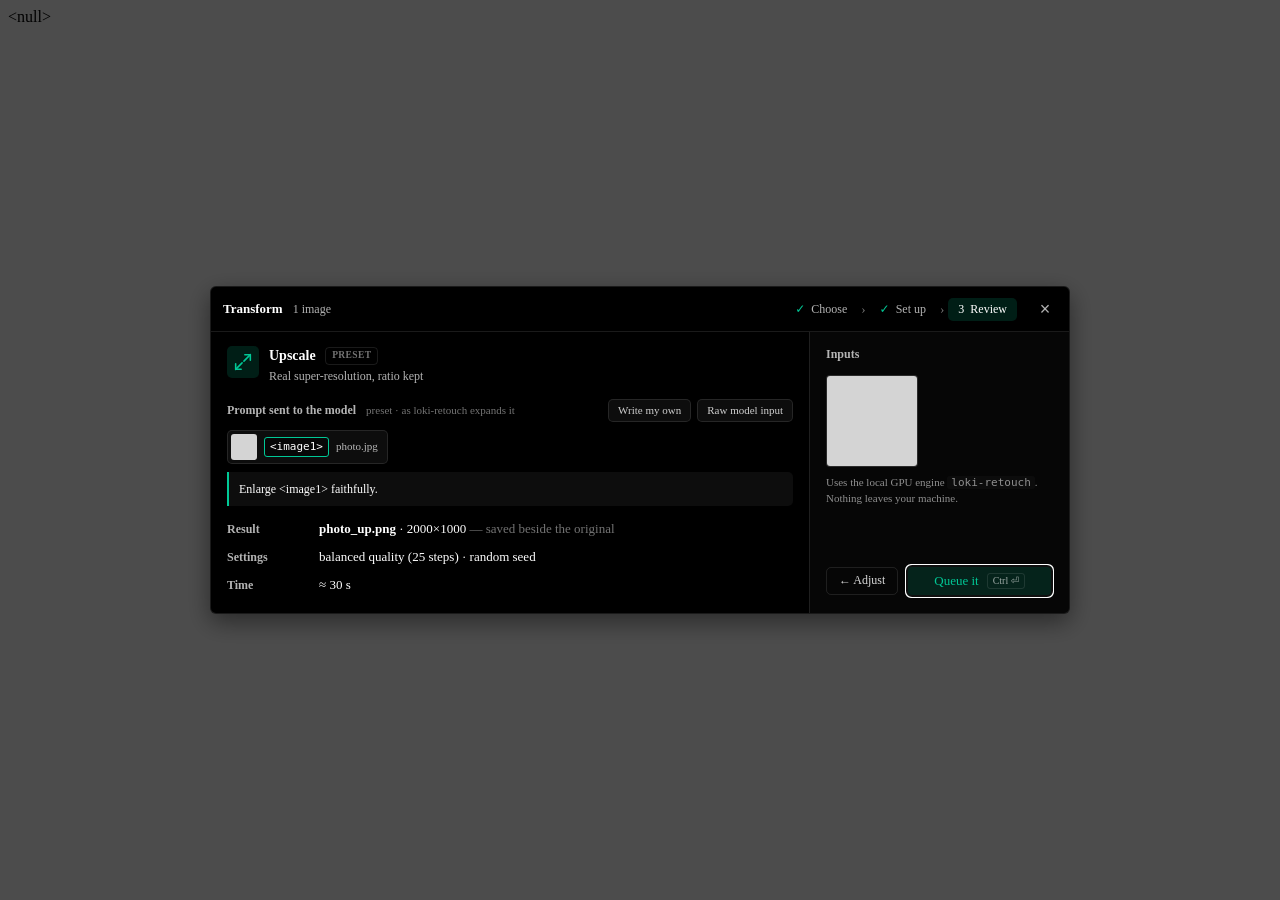
Test: TransformFlowView: references and the full prompt › review: "Write my own" starts from the expanded prompt, tokens insert into it, reset discards it
The image size is (1280, 900).
Click the button "Write my own" at {"x": 650, "y": 410}, box [608,399,691,422]
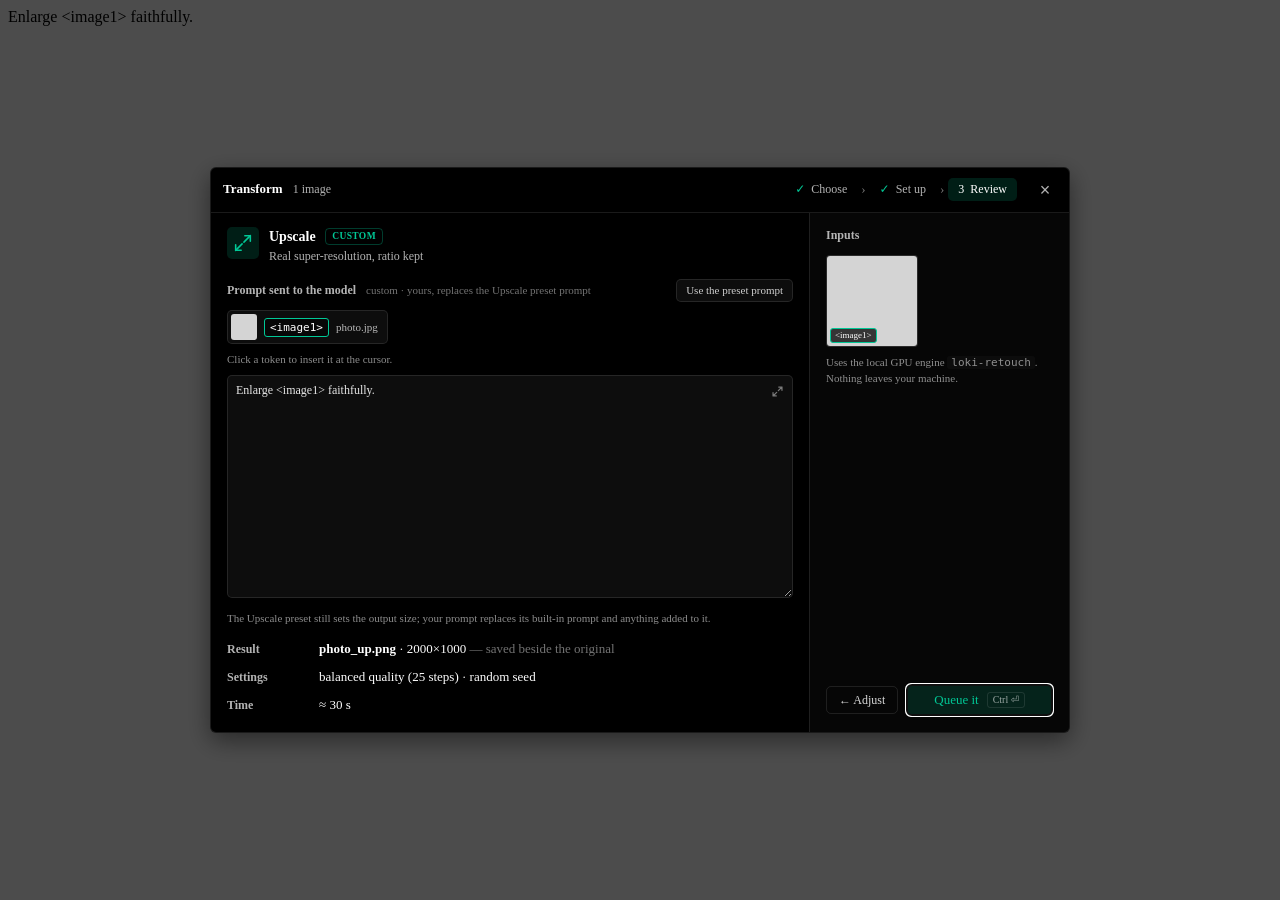
Check: the text box named "Full prompt" holds "Enlarge <image1> faithfully."
Replace the text in the text box named "Full prompt" with "Sharpen" at {"x": 510, "y": 487}, box [227,375,793,598]
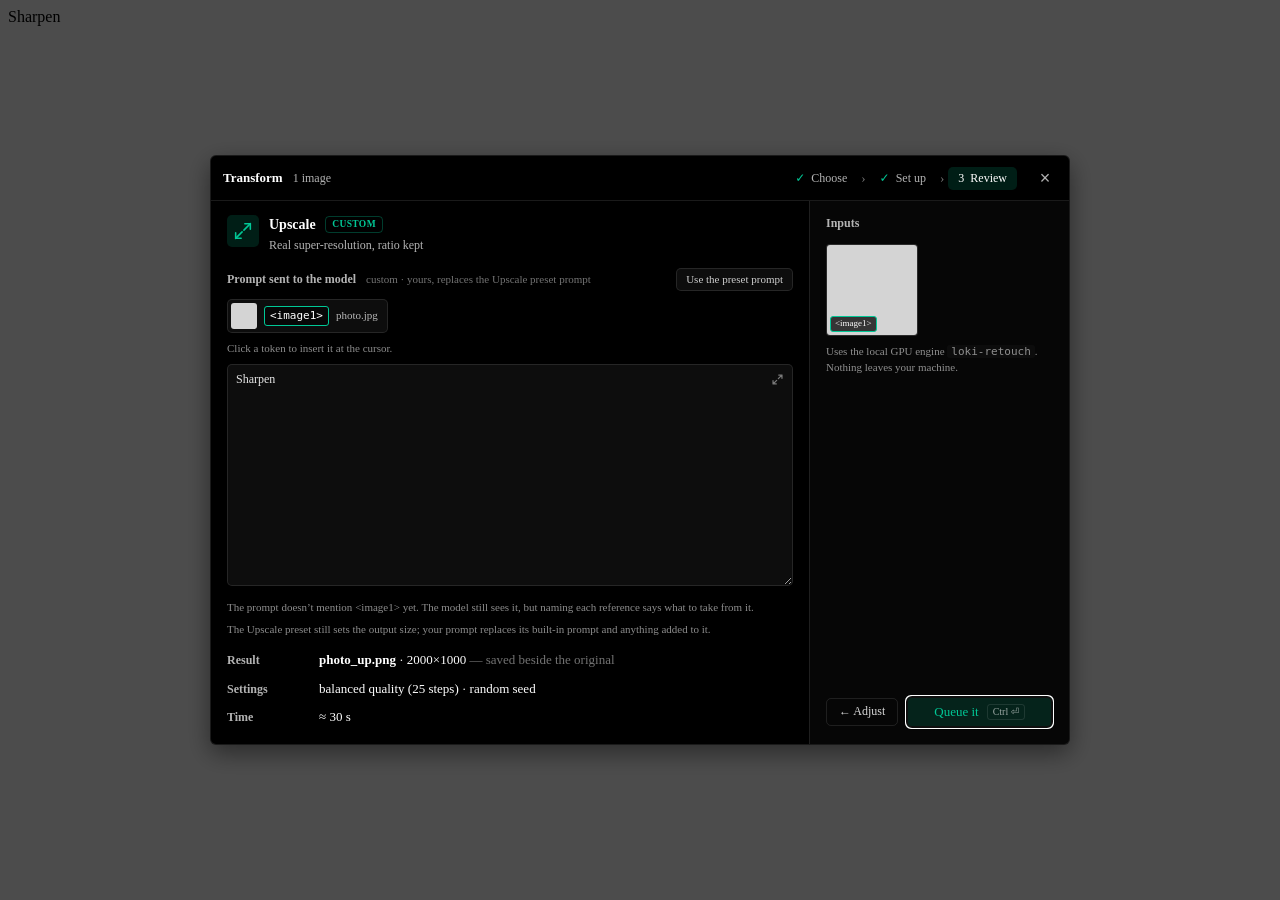
Click the button titled "Insert <image1> (photo.jpg) into the prompt" at {"x": 307, "y": 316}, box [228,300,387,332]
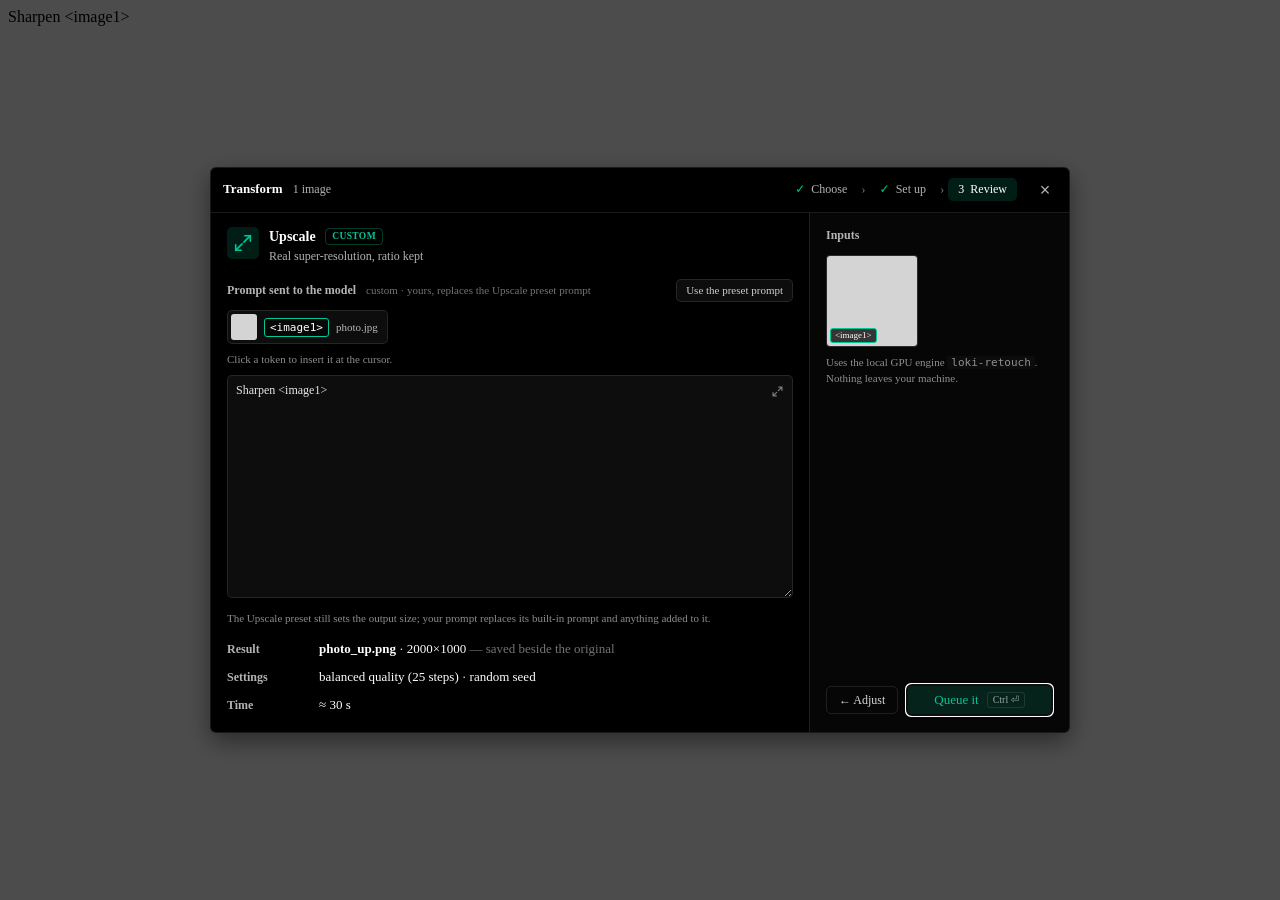
Clear the text box named "Full prompt" at {"x": 510, "y": 487}, box [227,375,793,598]
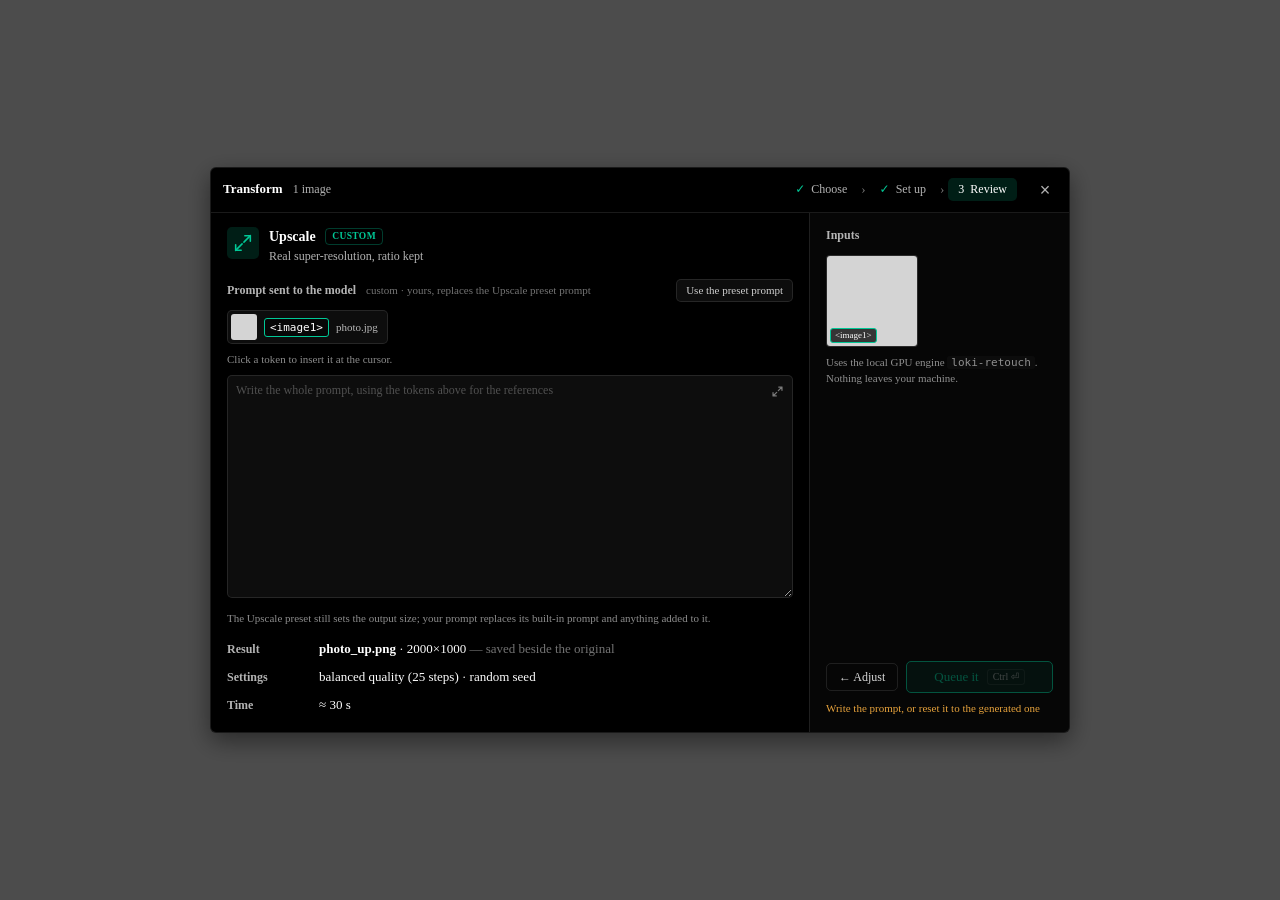
Check: the button "Queue it Ctrl ⏎" is disabled, box [906,661,1053,693]
Click the button "Use the preset prompt" at {"x": 735, "y": 291}, box [676,279,793,302]
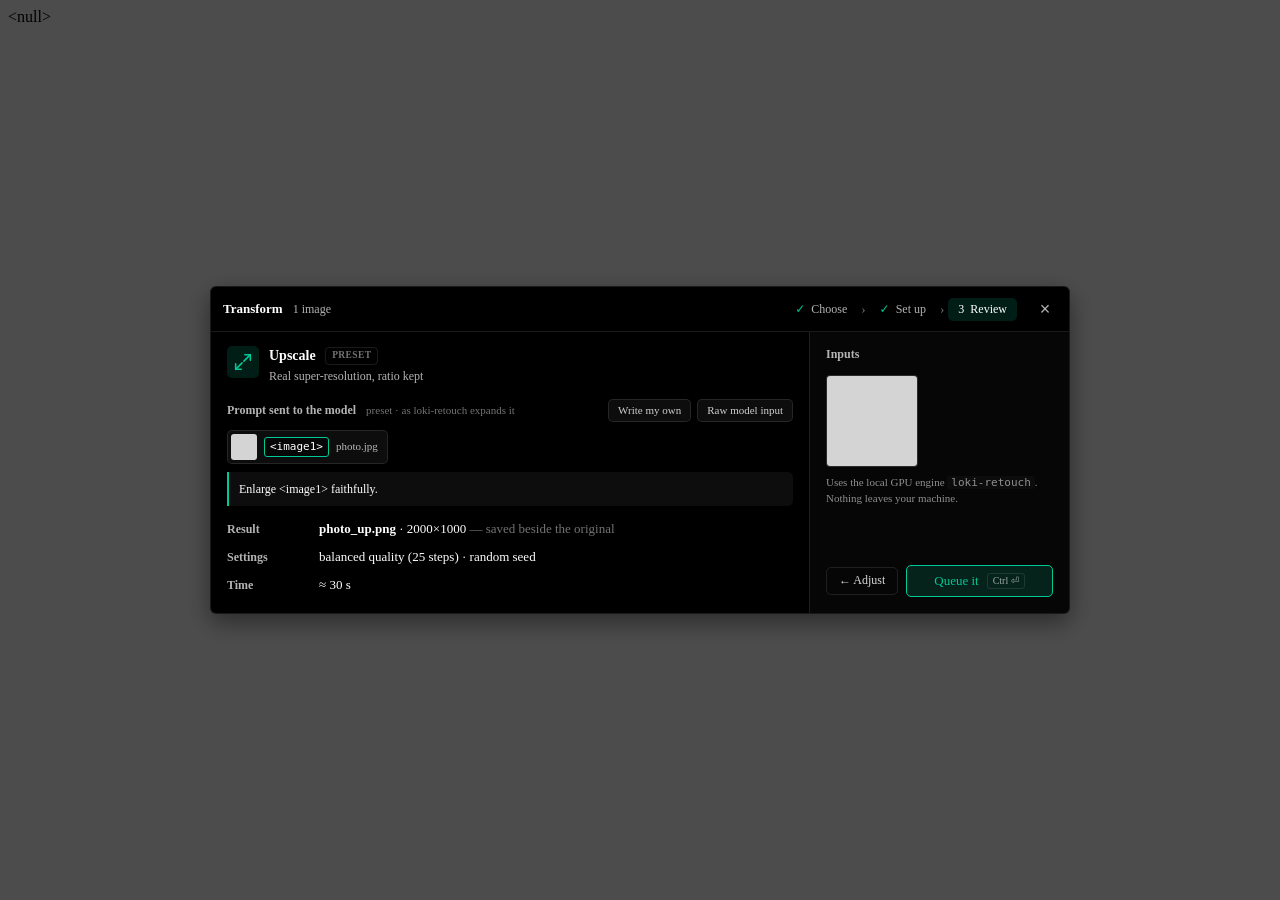
Check: the text "Enlarge <image1> faithfully." is shown, box [227,472,793,506]
